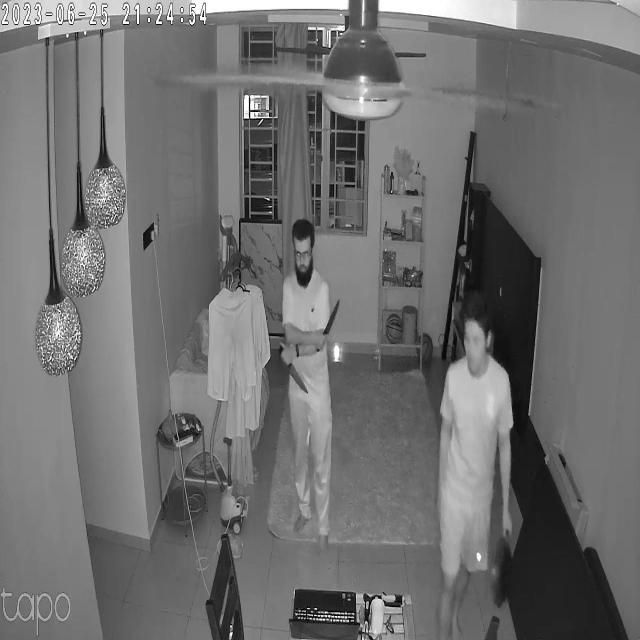Knife: (281, 341, 314, 398), (315, 295, 351, 340)
